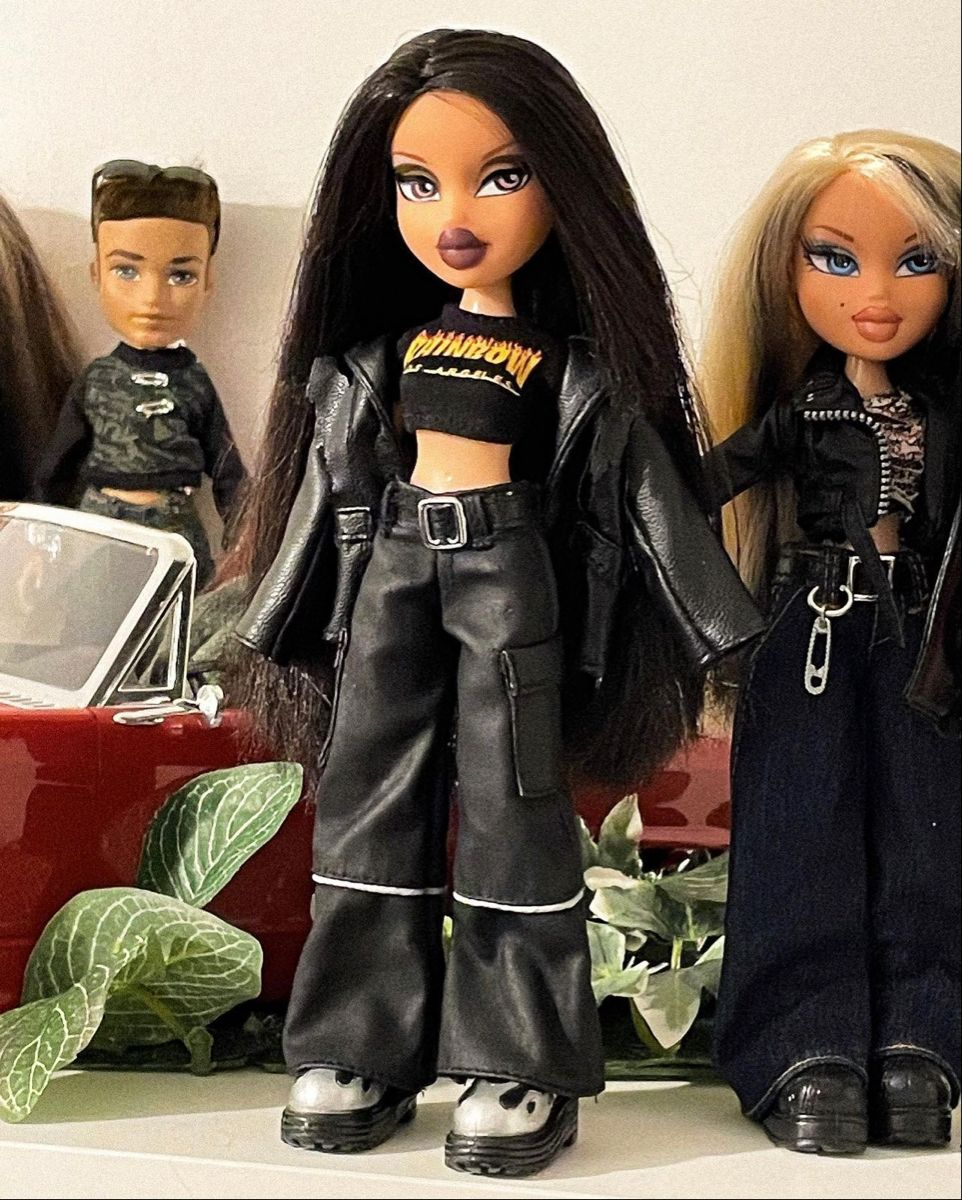Imprimante: (424, 210, 776, 352)
